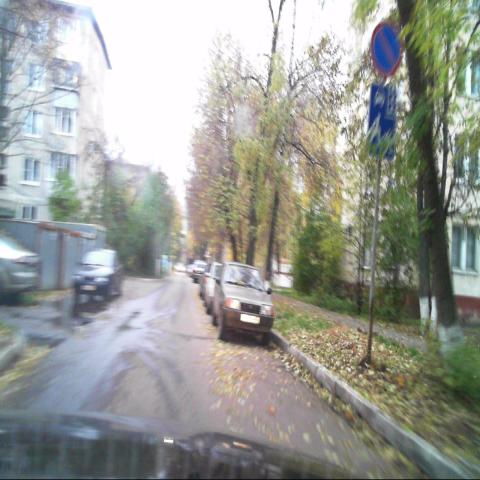3_28: (370, 21, 402, 77)
5_21: (368, 83, 397, 159)
